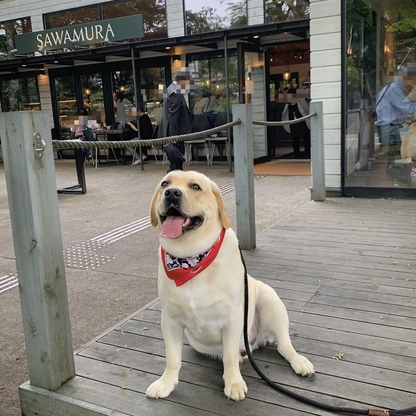labrado: (144, 167, 318, 403)
